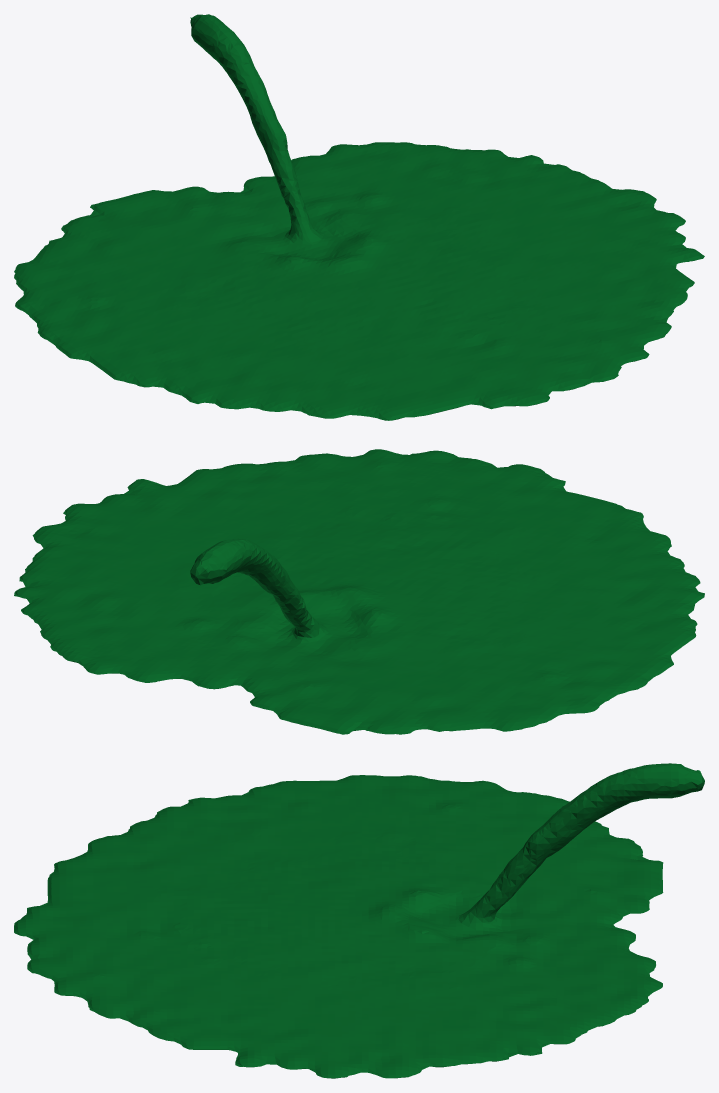
Rendered from fluid_42.fbx.
3 renders of one model, top to bottom at view 1: azimuth 30°, elevation 25°; view 2: azimuth 150°, elevation 25°; view 3: azimuth 270°, elevation 25°, orthographic. The views are drawn at different scales.
Parts seen in each view (by area): view 1: Cube; view 2: Cube; view 3: Cube.
Part boxes in pixels (bbox=[...]): Cube: bbox=[14, 14, 704, 420]; Cube: bbox=[14, 449, 704, 734]; Cube: bbox=[14, 763, 704, 1078].
Size of the model in its own units: 699 by 177 by 674.
